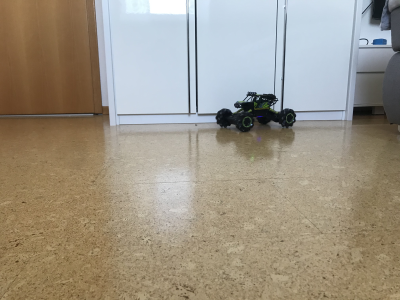remote control car: (215, 87, 299, 134)
